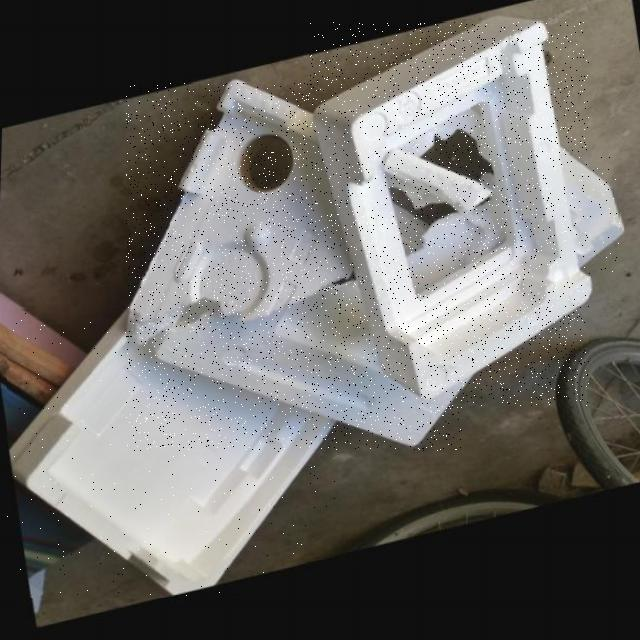styrofoam: (127, 83, 462, 450), (309, 22, 589, 405), (8, 309, 335, 597), (556, 154, 620, 276)
